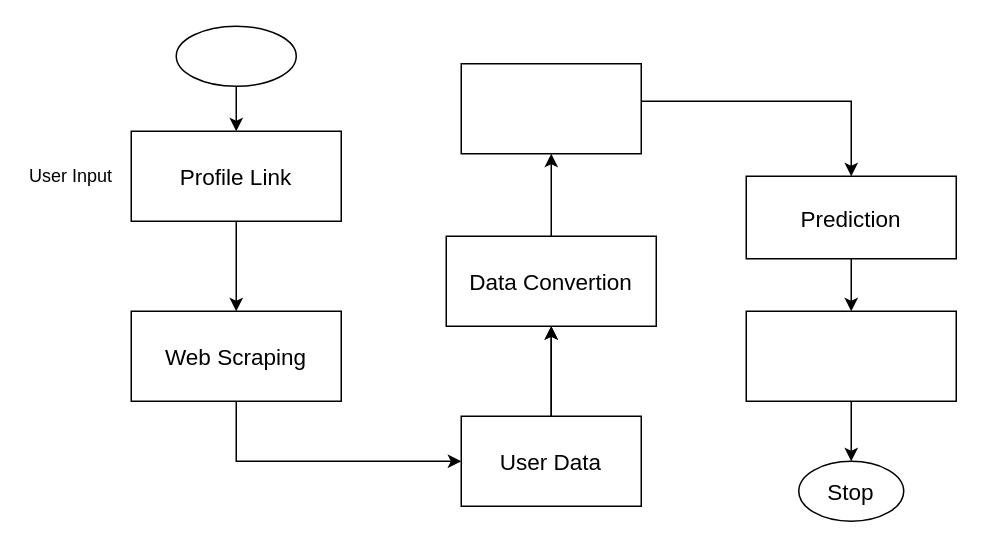
Some shapes in this 983 by 548 pixel diagram are drawn without their labels. The shapes that lost their labels are listed below. From the top down, each one's box as (x1, y1, x2, y2) in pixels, then its label:
(175, 25, 296, 86): Start
(460, 62, 641, 154): Model
(745, 310, 956, 401): Display Output
